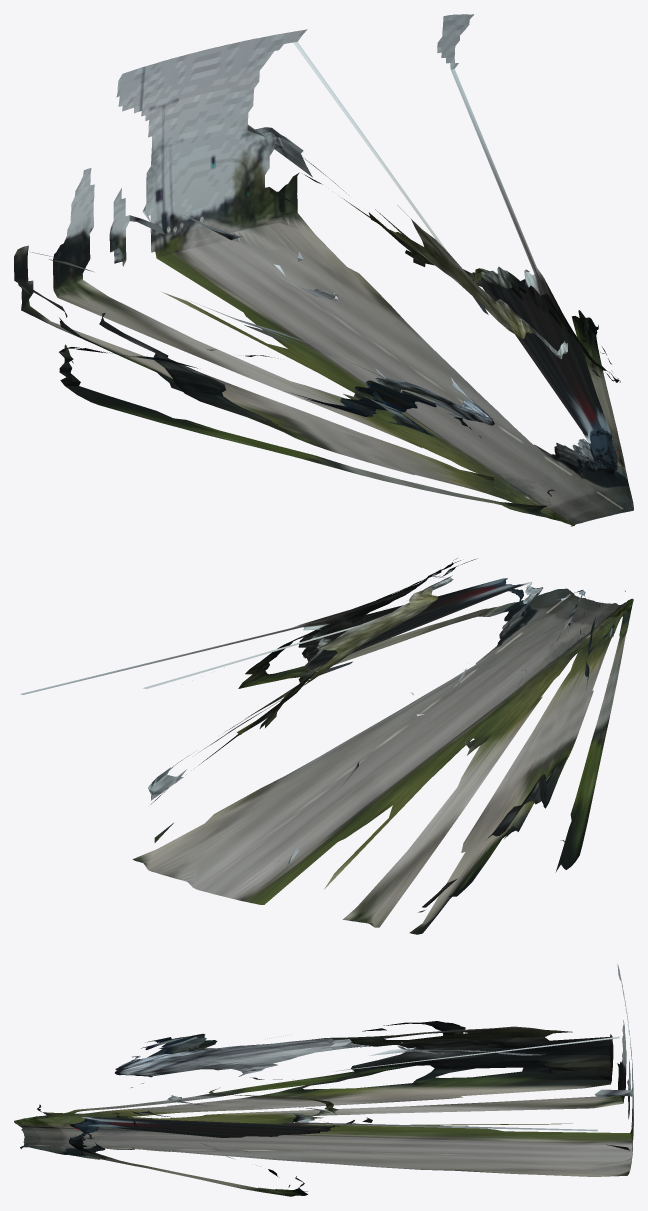
3 views of the same model, one above another, from view 1: azimuth 30°, elevation 25°; view 2: azimuth 150°, elevation 25°; view 3: azimuth 270°, elevation 25° (orthographic). The views are drawn at different scales.
Visible parts, largest first — view 1: defaultobject; view 2: defaultobject; view 3: defaultobject.
Boxes of the visible parts, x1,y1,x2,y2 form: defaultobject: [14, 14, 633, 526]; defaultobject: [20, 558, 633, 934]; defaultobject: [14, 964, 633, 1196].
Size of the model in its own units: 32.17 by 12.95 by 45.21.
1 material, 1 textured.
